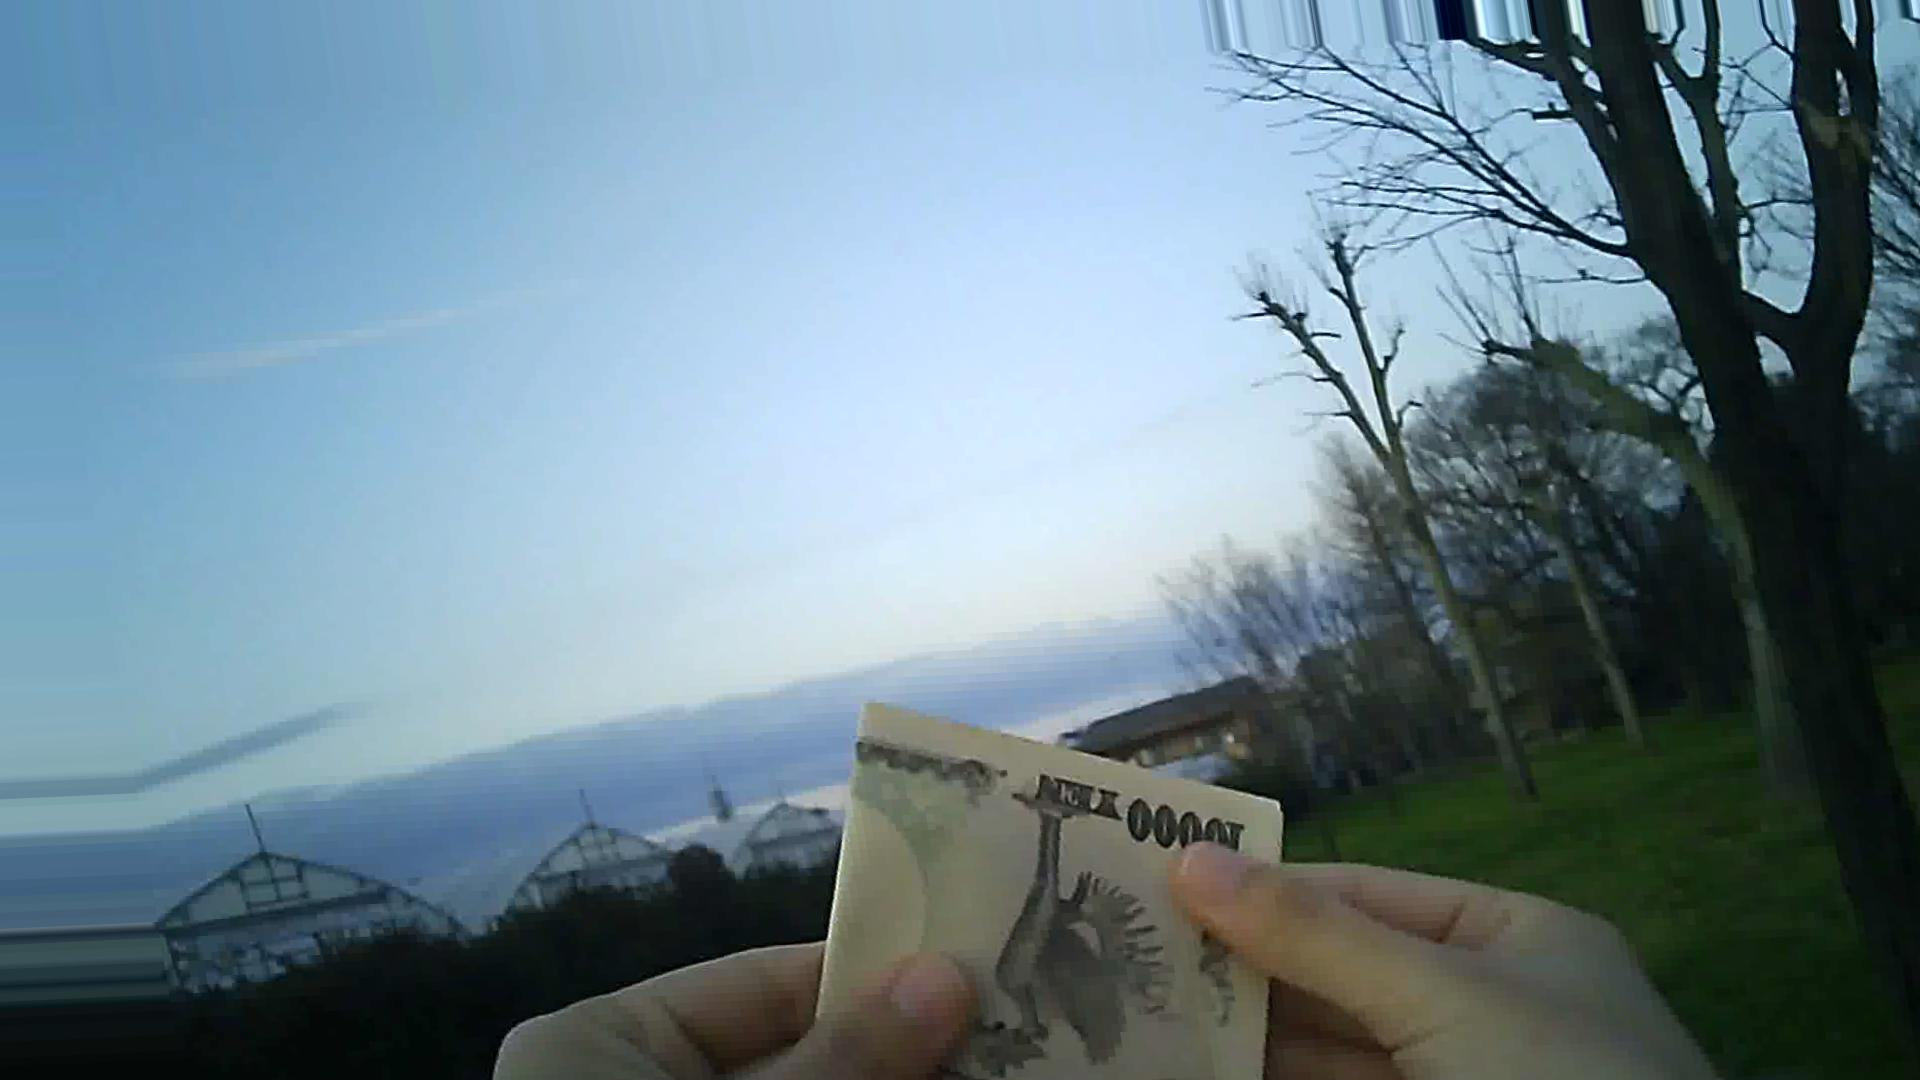10,000 Yen: (796, 676, 1274, 1071)
